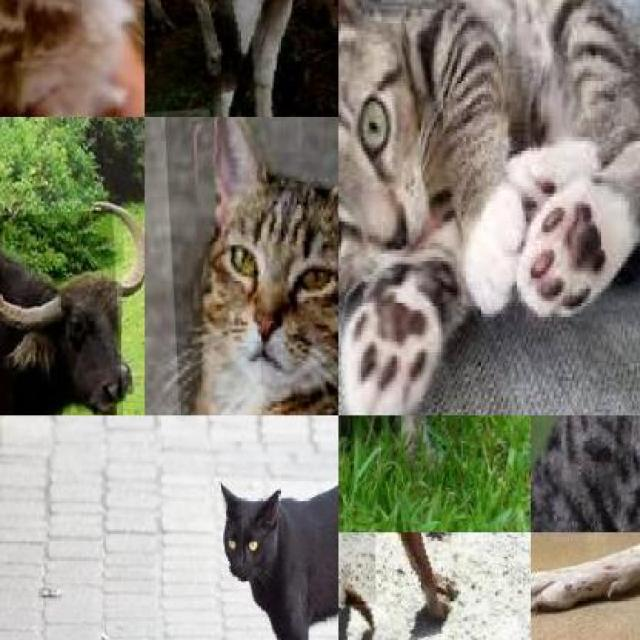buffalo: (0, 209, 135, 415)
cat: (338, 0, 640, 340), (162, 117, 338, 415), (210, 472, 338, 640), (0, 0, 145, 117)
cow: (144, 0, 235, 115)
dog: (338, 532, 531, 640)
injured: (338, 532, 376, 606)
